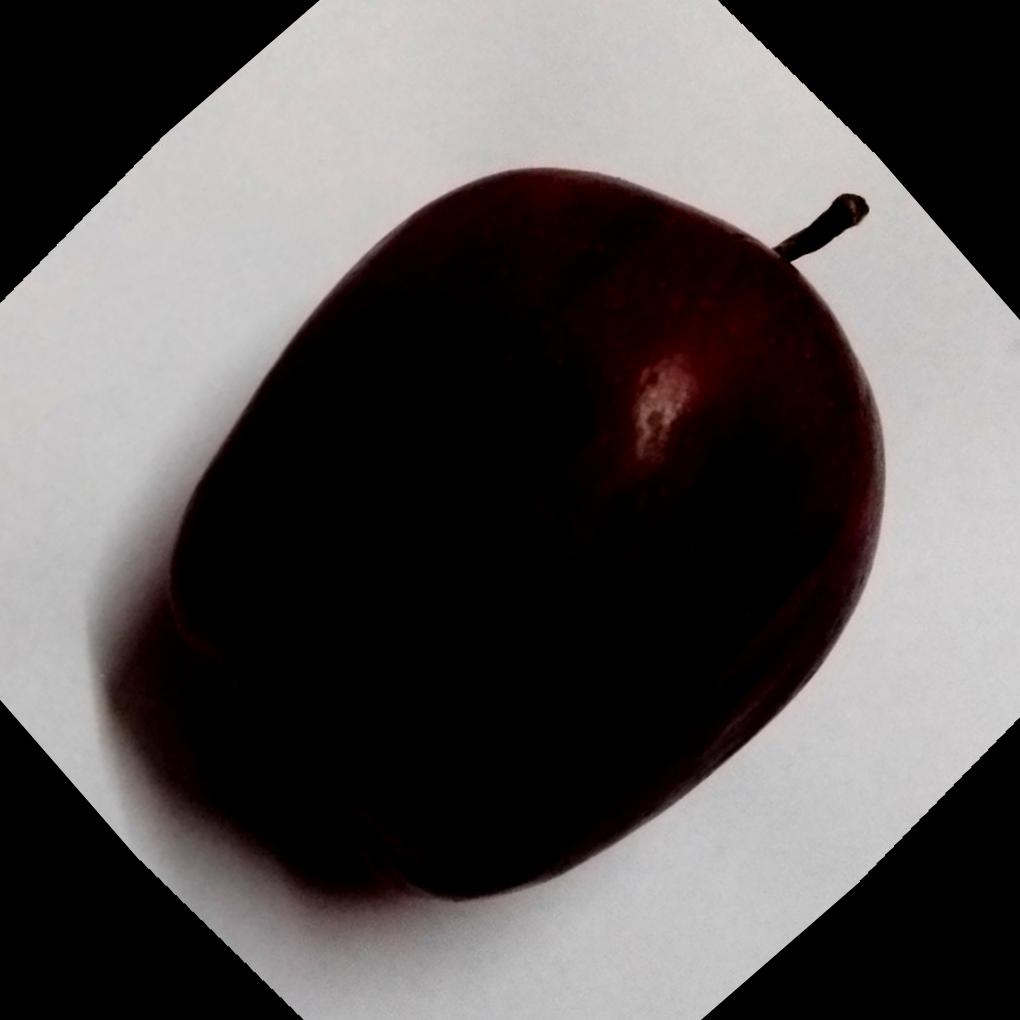FreshOrange: (162, 166, 886, 904)
